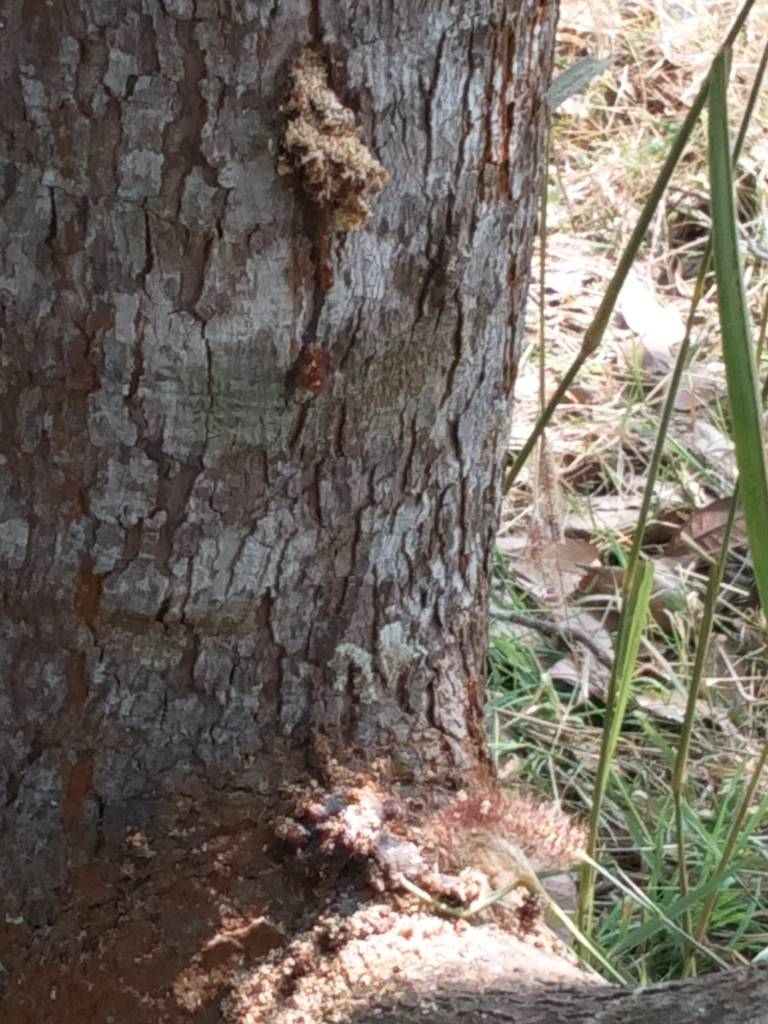Apate terebrans: (233, 41, 493, 321)
